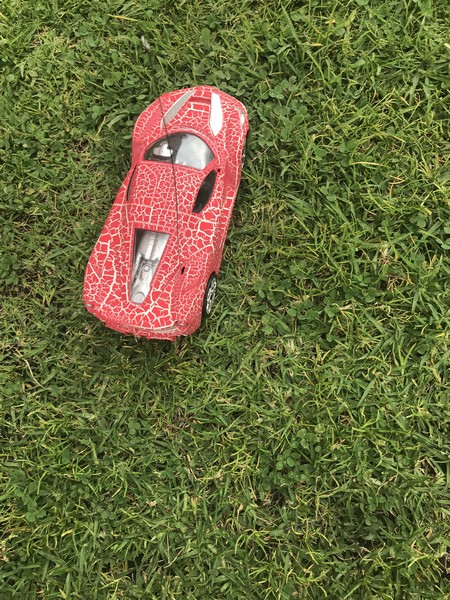RC: (80, 85, 251, 347)
